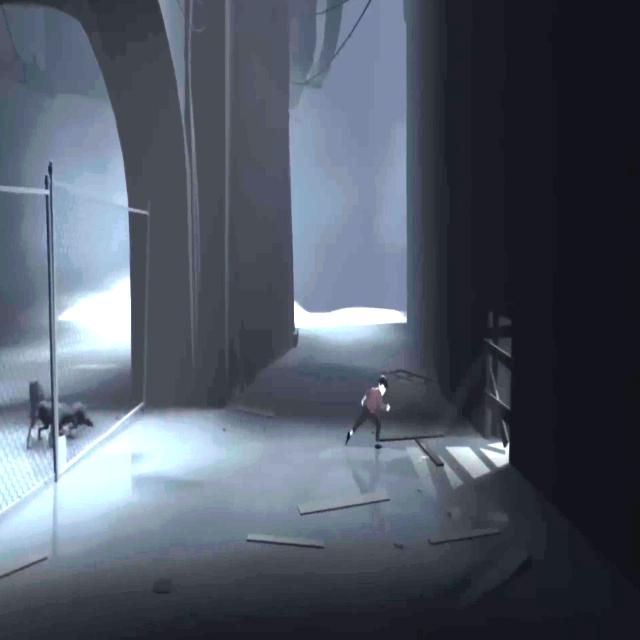boy: (345, 375, 391, 449)
dog: (36, 402, 84, 440), (26, 379, 44, 449)
